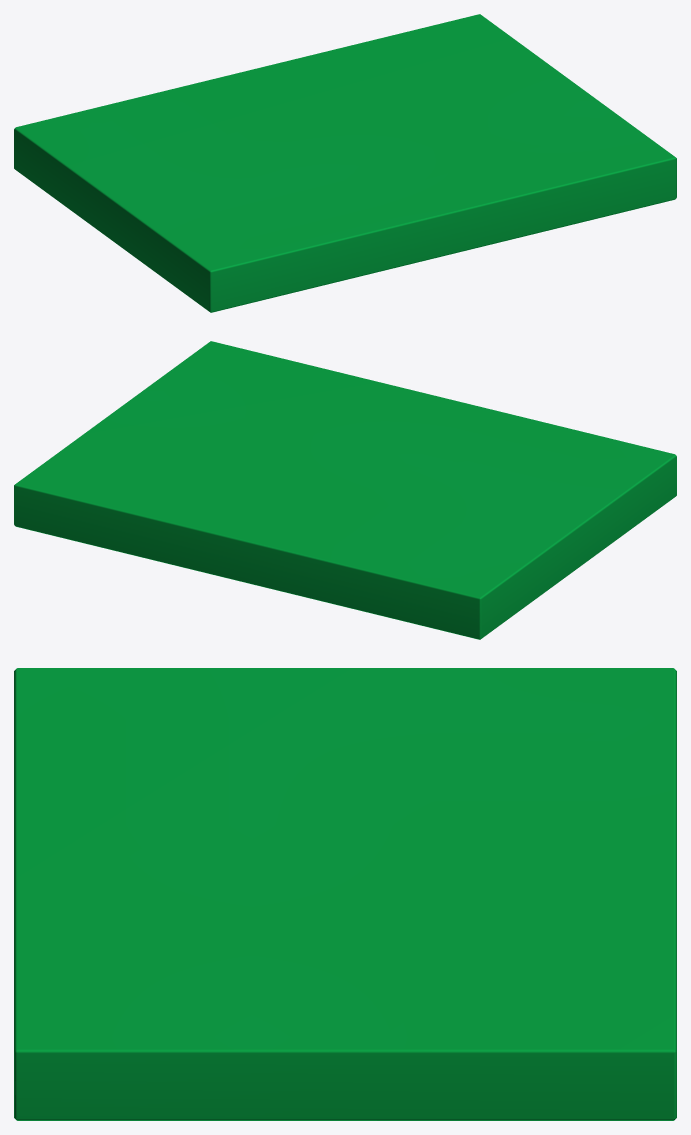
The model's file is Town_15_Base_1.glb.
3 views of the same model, one above another, from view 1: azimuth 30°, elevation 25°; view 2: azimuth 150°, elevation 25°; view 3: azimuth 270°, elevation 25° (orthographic). The views are drawn at different scales.
Visible parts, largest first — view 1: Town_15_Base_1; view 2: Town_15_Base_1; view 3: Town_15_Base_1.
Part boxes in pixels (x1,y1,x2,y2): Town_15_Base_1: (14, 14, 676, 312); Town_15_Base_1: (14, 341, 676, 639); Town_15_Base_1: (14, 668, 676, 1120).
Size of the model in its own units: 13.15 by 1.15 by 9.6.
Materials: 1 (1 with a texture image).
